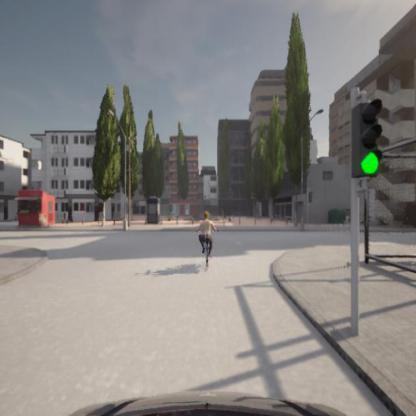bike: (196, 212, 217, 270)
traffic_light_green: (355, 101, 384, 178)
